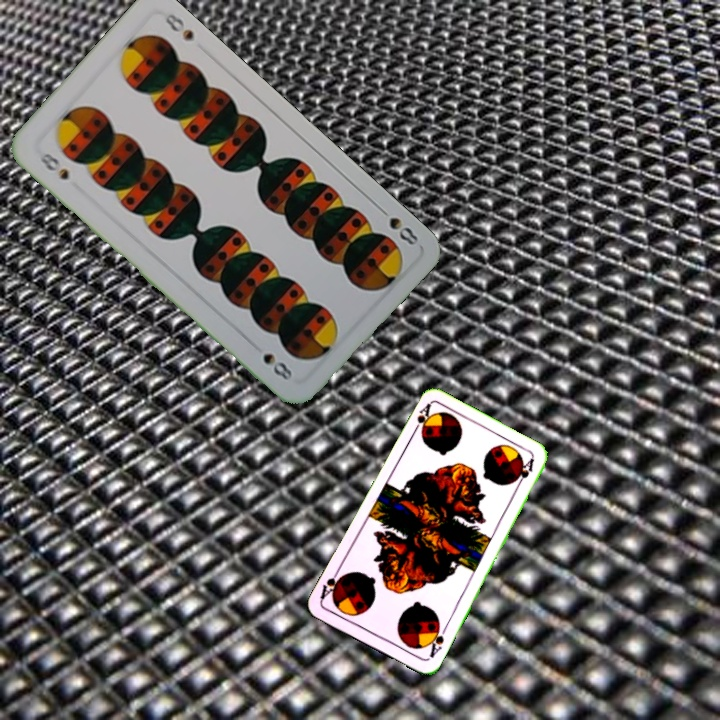S8: (373, 202, 421, 248), (31, 148, 72, 183)
SA: (423, 620, 449, 660), (408, 399, 434, 438)
